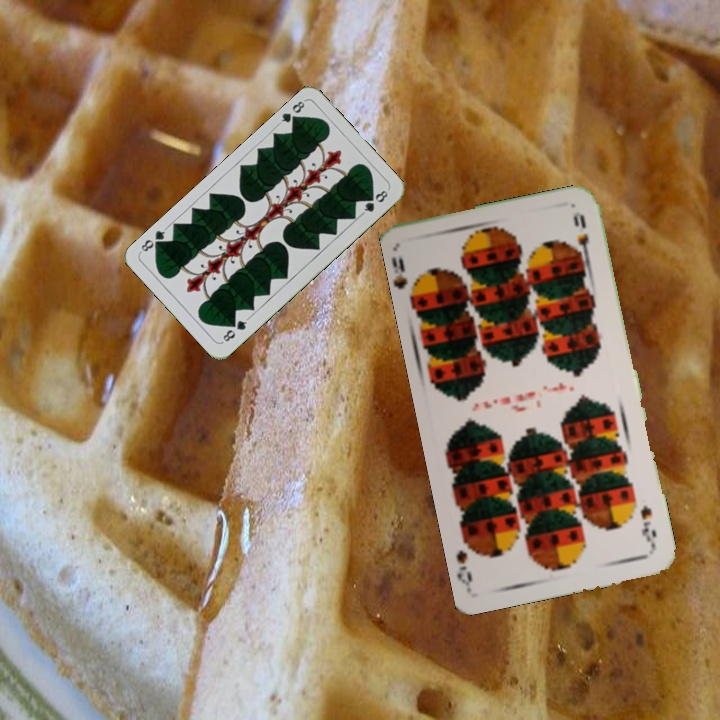G8: (274, 96, 307, 128), (218, 314, 251, 345)
S9: (390, 252, 425, 304), (636, 502, 659, 551)
